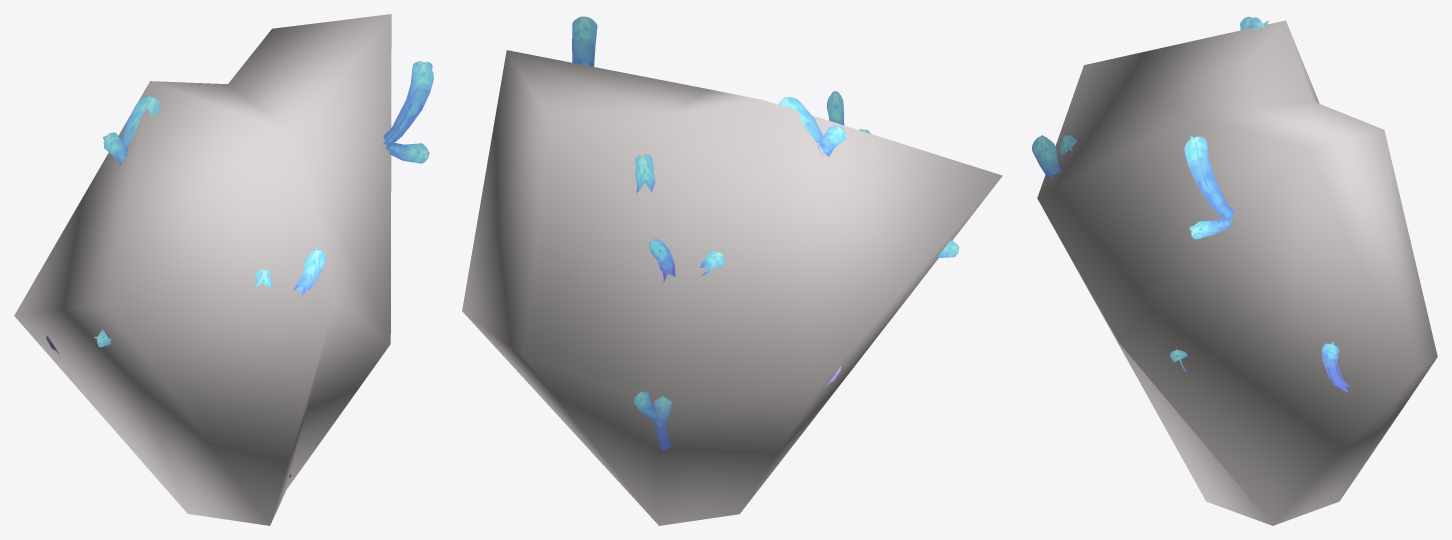
File: Homeworld_Exterior_Dq_Plant_Grass_04_Lod0.fbx
The picture shows the model from 3 angles, left to right: view 1: azimuth 30°, elevation 25°; view 2: azimuth 150°, elevation 25°; view 3: azimuth 270°, elevation 25°; orthographic projection. The views are drawn at different scales.
Visible parts, largest first — view 1: EffectMesh, Area_Dq_Grass_HZD_Shc_01_Lod0; view 2: EffectMesh, Area_Dq_Grass_HZD_Shc_01_Lod0; view 3: EffectMesh, Area_Dq_Grass_HZD_Shc_01_Lod0.
Boxes of the visible parts, left/top/right/bottom form: EffectMesh: left=14, top=14, right=391, bottom=525; Area_Dq_Grass_HZD_Shc_01_Lod0: left=46, top=61, right=433, bottom=477; EffectMesh: left=462, top=50, right=1002, bottom=525; Area_Dq_Grass_HZD_Shc_01_Lod0: left=572, top=16, right=958, bottom=450; EffectMesh: left=1037, top=20, right=1437, bottom=525; Area_Dq_Grass_HZD_Shc_01_Lod0: left=1032, top=16, right=1350, bottom=499.
Bounding box in the file's own units: 2.18 × 2.28 × 1.9.
2 materials, 1 textured.
